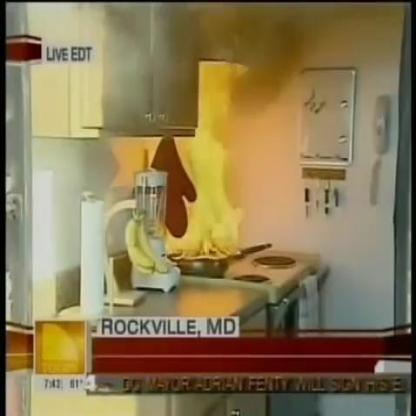fire: (164, 89, 242, 263)
